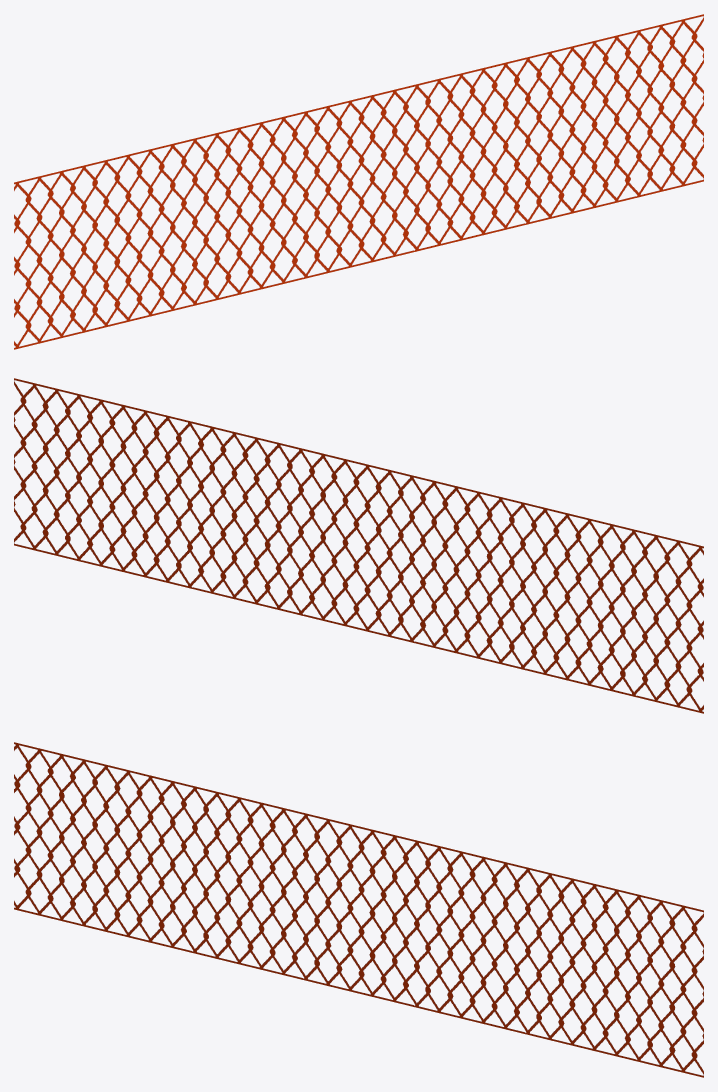
Rendered from orangeFencePeice_flat_1.fbx.
3 views of the same model, one above another, from view 1: azimuth 30°, elevation 25°; view 2: azimuth 150°, elevation 25°; view 3: azimuth 330°, elevation 25° (orthographic).
Visible parts, largest first — view 1: Plane01, Duplicate05; view 2: Plane01, Duplicate05; view 3: Plane01, Duplicate05.
Part boxes in pixels (<box>): Plane01: <box>14,14,703,349</box>; Duplicate05: <box>14,15,703,345</box>; Plane01: <box>14,378,703,713</box>; Duplicate05: <box>14,379,703,709</box>; Plane01: <box>14,742,703,1077</box>; Duplicate05: <box>14,744,703,1077</box>.
Bounding box in the file's own units: 360 × 83.5 × 0.
